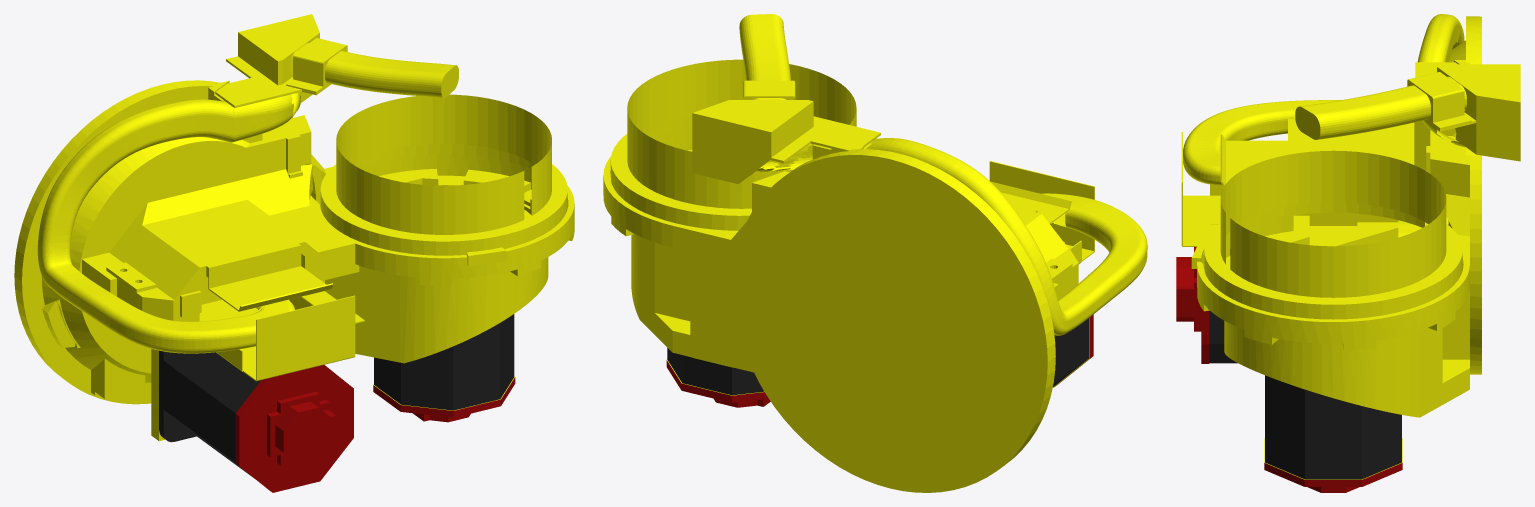
3 views of the same model, side by side, from view 1: azimuth 30°, elevation 25°; view 2: azimuth 150°, elevation 25°; view 3: azimuth 270°, elevation 25° (orthographic). The views are drawn at different scales.
Visible parts, largest first — view 1: node; view 2: node; view 3: node.
Boxes of the visible parts, x1,y1,x2,y2 form: node: (14, 14, 574, 492); node: (603, 14, 1147, 492); node: (1176, 14, 1520, 492).
Bounding box in the file's own units: 716 × 508 × 432.
